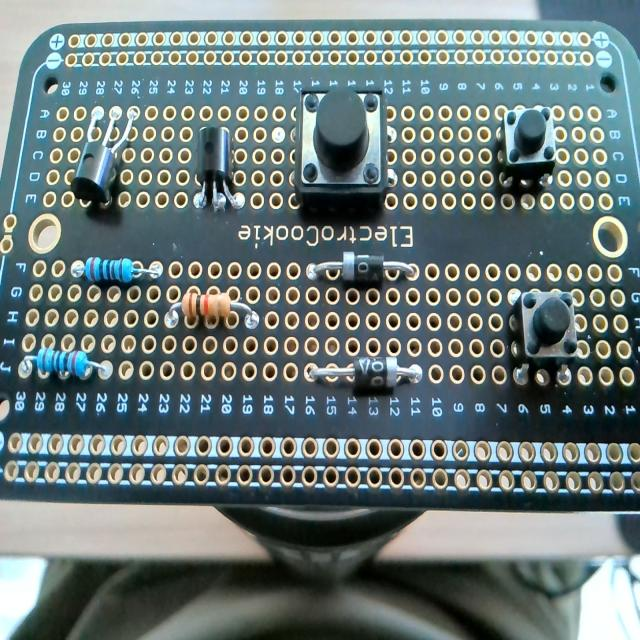diode: (309, 357, 424, 391), (309, 252, 419, 284)
resistor: (16, 340, 112, 385), (166, 290, 260, 330), (72, 254, 159, 281)
switch: (291, 83, 390, 213), (500, 104, 557, 186), (517, 289, 579, 361)
transistor: (185, 106, 245, 215), (79, 98, 131, 222)
